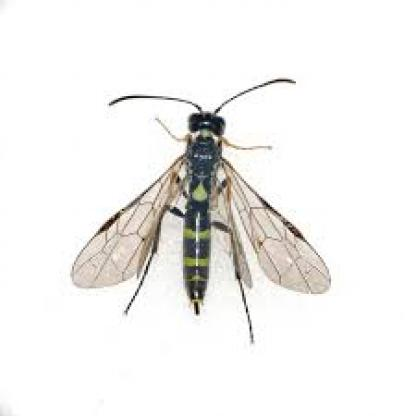sawfly: (64, 59, 338, 352)
